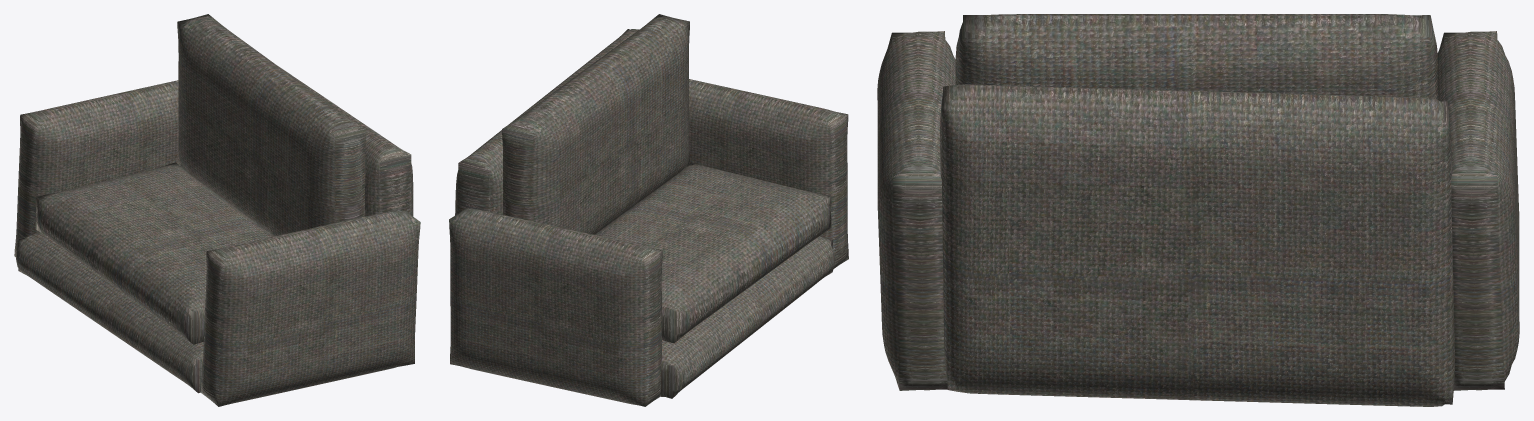
File: Small Sofa.fbx
3 renders of one model, left to right at view 1: azimuth 30°, elevation 25°; view 2: azimuth 150°, elevation 25°; view 3: azimuth 270°, elevation 25°, orthographic. The views are drawn at different scales.
Parts seen in each view (by area): view 1: Cube.016; view 2: Cube.016; view 3: Cube.016.
Part boxes in pixels (x1=…): Cube.016: x1=14, y1=14, x2=420, y2=406; Cube.016: x1=449, y1=14, x2=848, y2=406; Cube.016: x1=877, y1=14, x2=1519, y2=406.
Bounding box in the file's own units: 144 × 140 × 227.
1 material, 1 textured.
